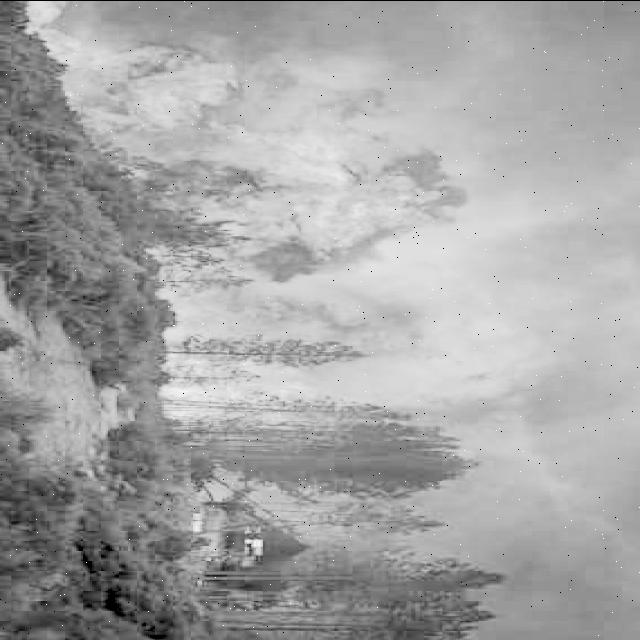api: (26, 2, 420, 228), (146, 375, 310, 425)
asap: (130, 237, 640, 640), (249, 235, 449, 293), (383, 140, 488, 230)
